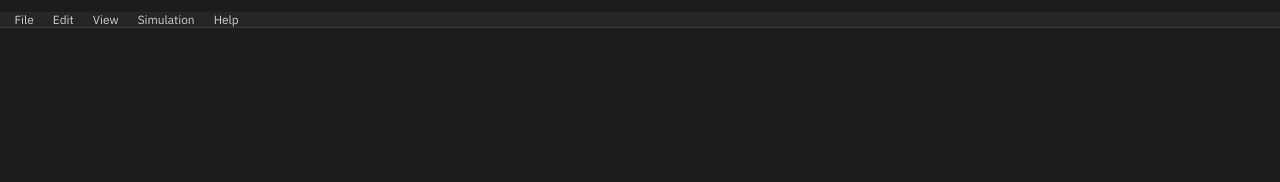
it: menu bar › closes an open menu on Esc
Click the menu item "View" at {"x": 106, "y": 20}, box [84,12,127,27]
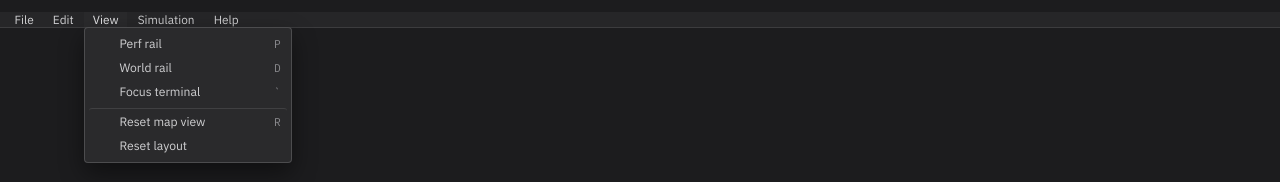
Press Escape
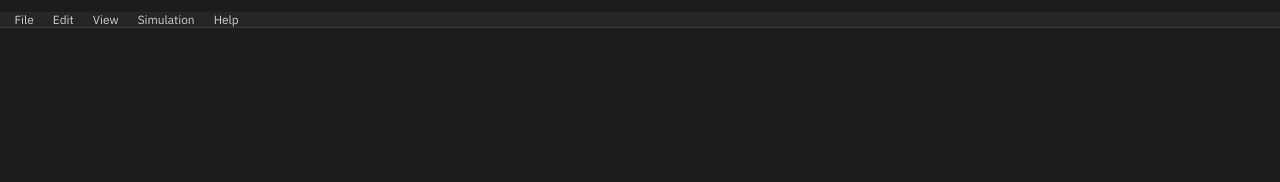
Expected: the menu is gone
